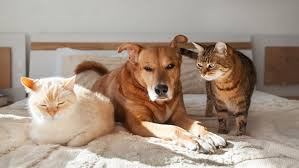cat: (19, 70, 113, 146), (192, 41, 257, 136)
dog: (75, 34, 225, 153)
